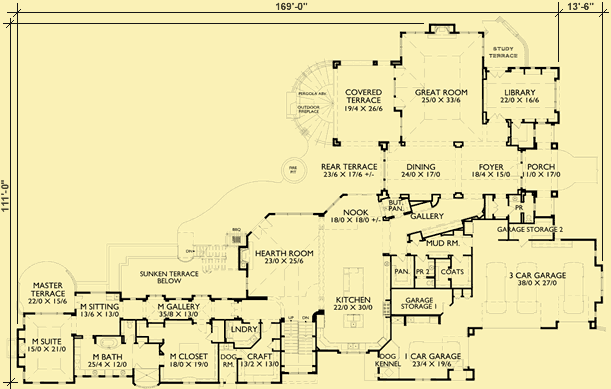door: (487, 111, 504, 122), (489, 71, 505, 80), (394, 97, 406, 109), (393, 66, 406, 77), (491, 199, 499, 214)
stairs: (284, 59, 335, 148), (280, 314, 315, 372), (190, 244, 226, 270)
tub: (97, 335, 120, 349)
windows: (553, 76, 562, 112), (274, 210, 314, 218), (382, 148, 387, 190), (598, 270, 604, 296), (403, 29, 424, 36), (30, 311, 65, 315), (482, 35, 487, 58), (399, 115, 404, 137), (399, 36, 403, 55)
